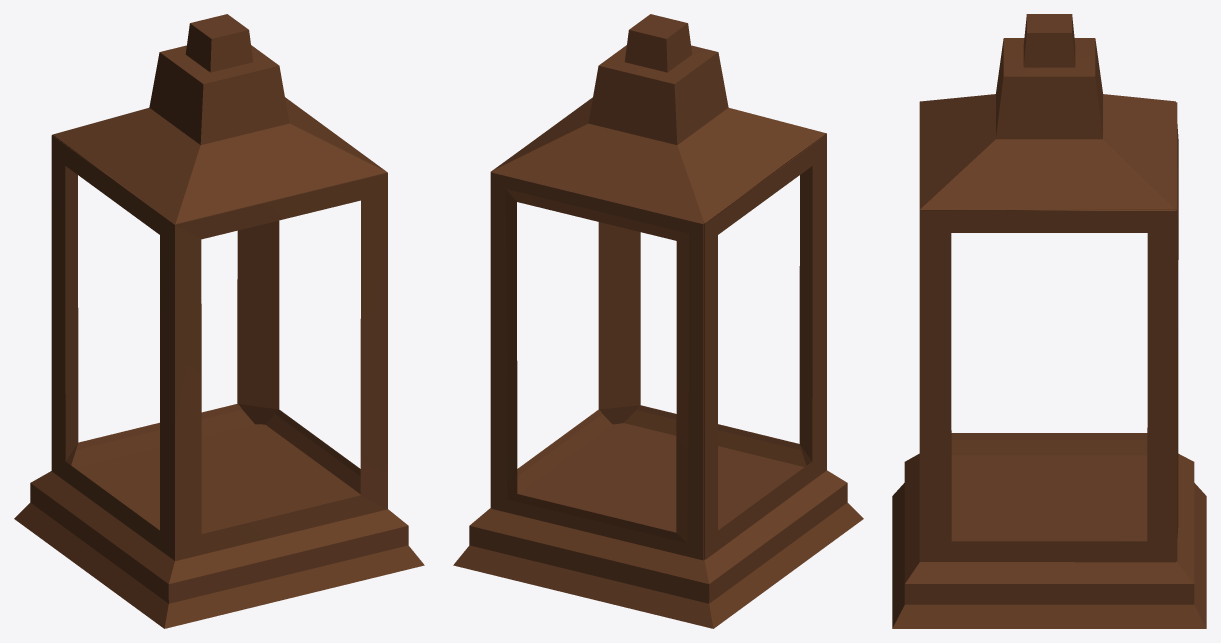
Rendered from Lamp Overlay Wood.obj.
3 views of the same model, side by side, from view 1: azimuth 30°, elevation 25°; view 2: azimuth 150°, elevation 25°; view 3: azimuth 270°, elevation 25° (orthographic). The views are drawn at different scales.
Visible parts, largest first — view 1: Overlay_Wood; view 2: Overlay_Wood; view 3: Overlay_Wood.
Boxes of the visible parts, x1,y1,x2,y2 form: Overlay_Wood: [14, 14, 424, 628]; Overlay_Wood: [453, 14, 863, 628]; Overlay_Wood: [892, 14, 1206, 628].
Bounding box in the file's own units: 0.1582 × 0.2992 × 0.1582.
